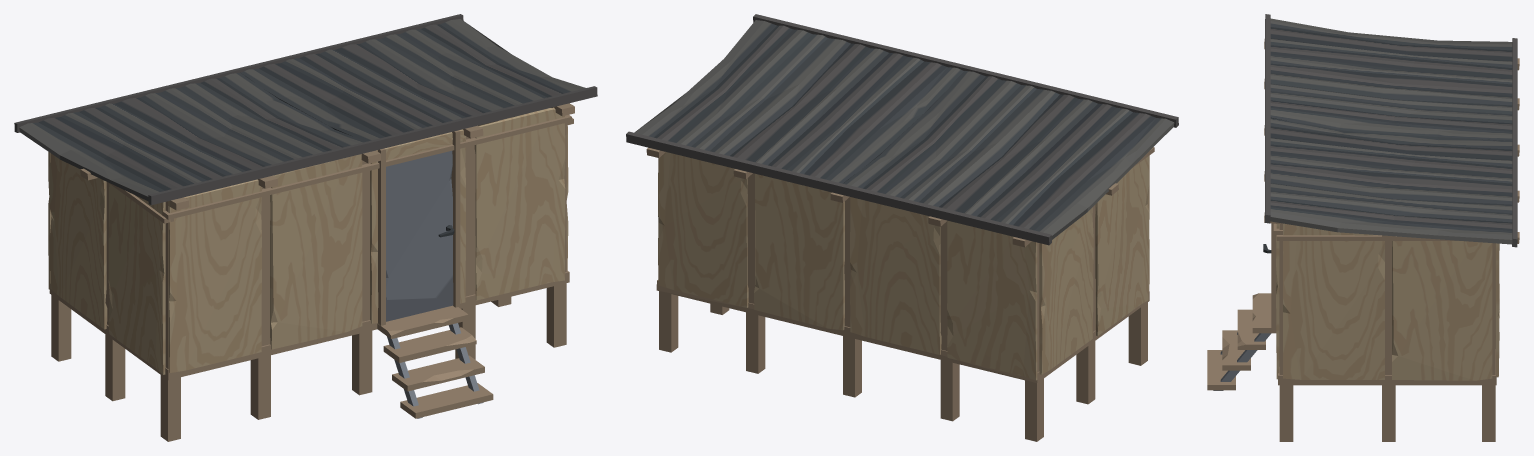
File: SM_Bld_Plywood_Shed_Small_01.fbx
The picture shows the model from 3 angles, left to right: view 1: azimuth 30°, elevation 25°; view 2: azimuth 150°, elevation 25°; view 3: azimuth 270°, elevation 25°; orthographic projection. The views are drawn at different scales.
Parts seen in each view (by area): view 1: SM_Bld_Plywood_Shed_Small_01, SM_Bld_Plywood_Shed_Small_Door_01; view 2: SM_Bld_Plywood_Shed_Small_01; view 3: SM_Bld_Plywood_Shed_Small_01.
Boxes of the visible parts, x1,y1,x2,y2 form: SM_Bld_Plywood_Shed_Small_01: (14, 14, 597, 441); SM_Bld_Plywood_Shed_Small_Door_01: (386, 150, 454, 321); SM_Bld_Plywood_Shed_Small_01: (626, 14, 1178, 441); SM_Bld_Plywood_Shed_Small_01: (1207, 14, 1519, 441).
Bounding box in the file's own units: 664 × 370 × 436.
